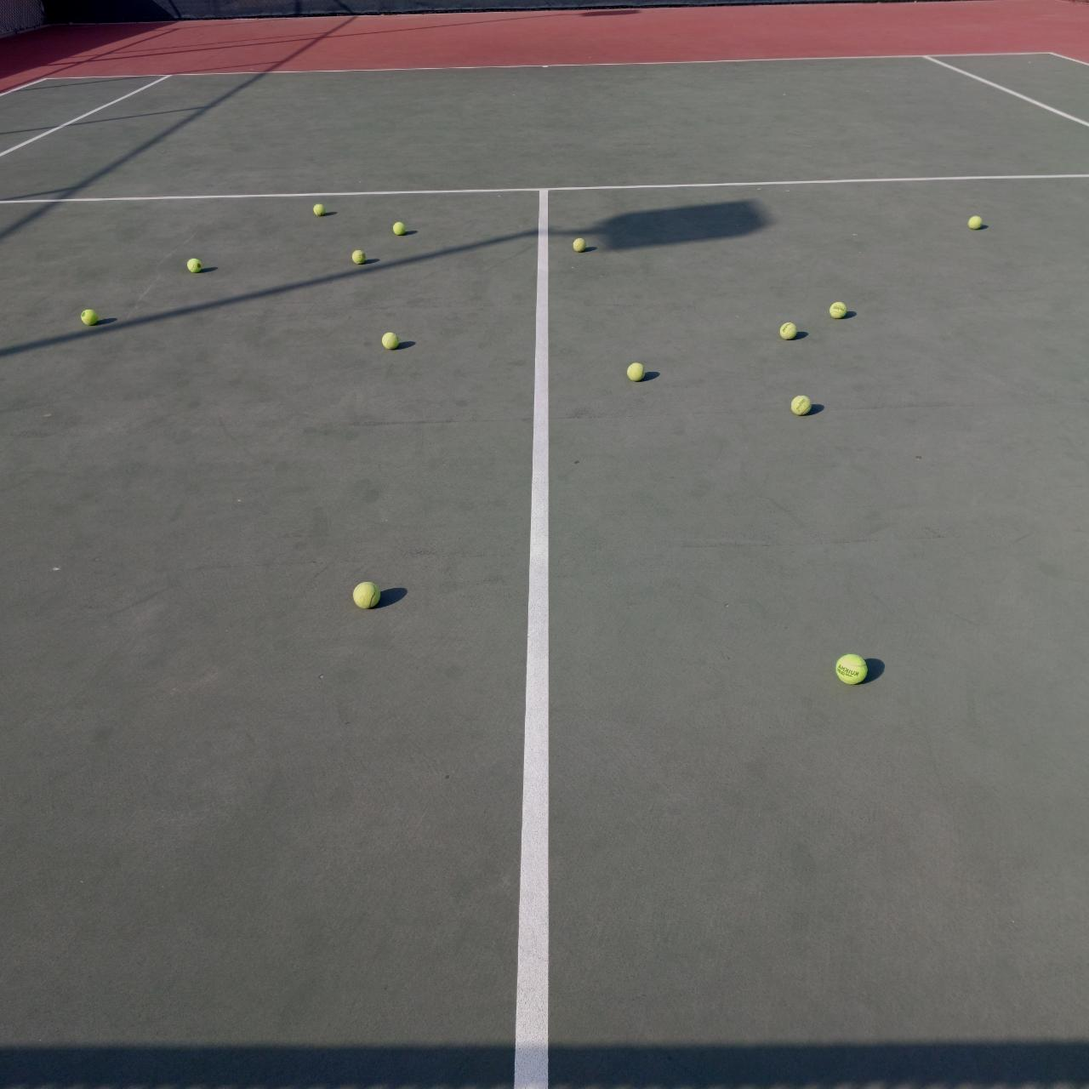tennis-ball: (835, 651, 869, 685), (352, 579, 381, 609), (791, 393, 812, 415), (626, 360, 646, 381), (382, 330, 401, 349), (81, 306, 100, 325), (779, 320, 798, 339), (830, 299, 848, 318), (968, 213, 984, 229), (187, 256, 202, 272), (393, 220, 407, 235), (573, 236, 587, 251), (352, 249, 366, 264), (313, 203, 326, 216)
